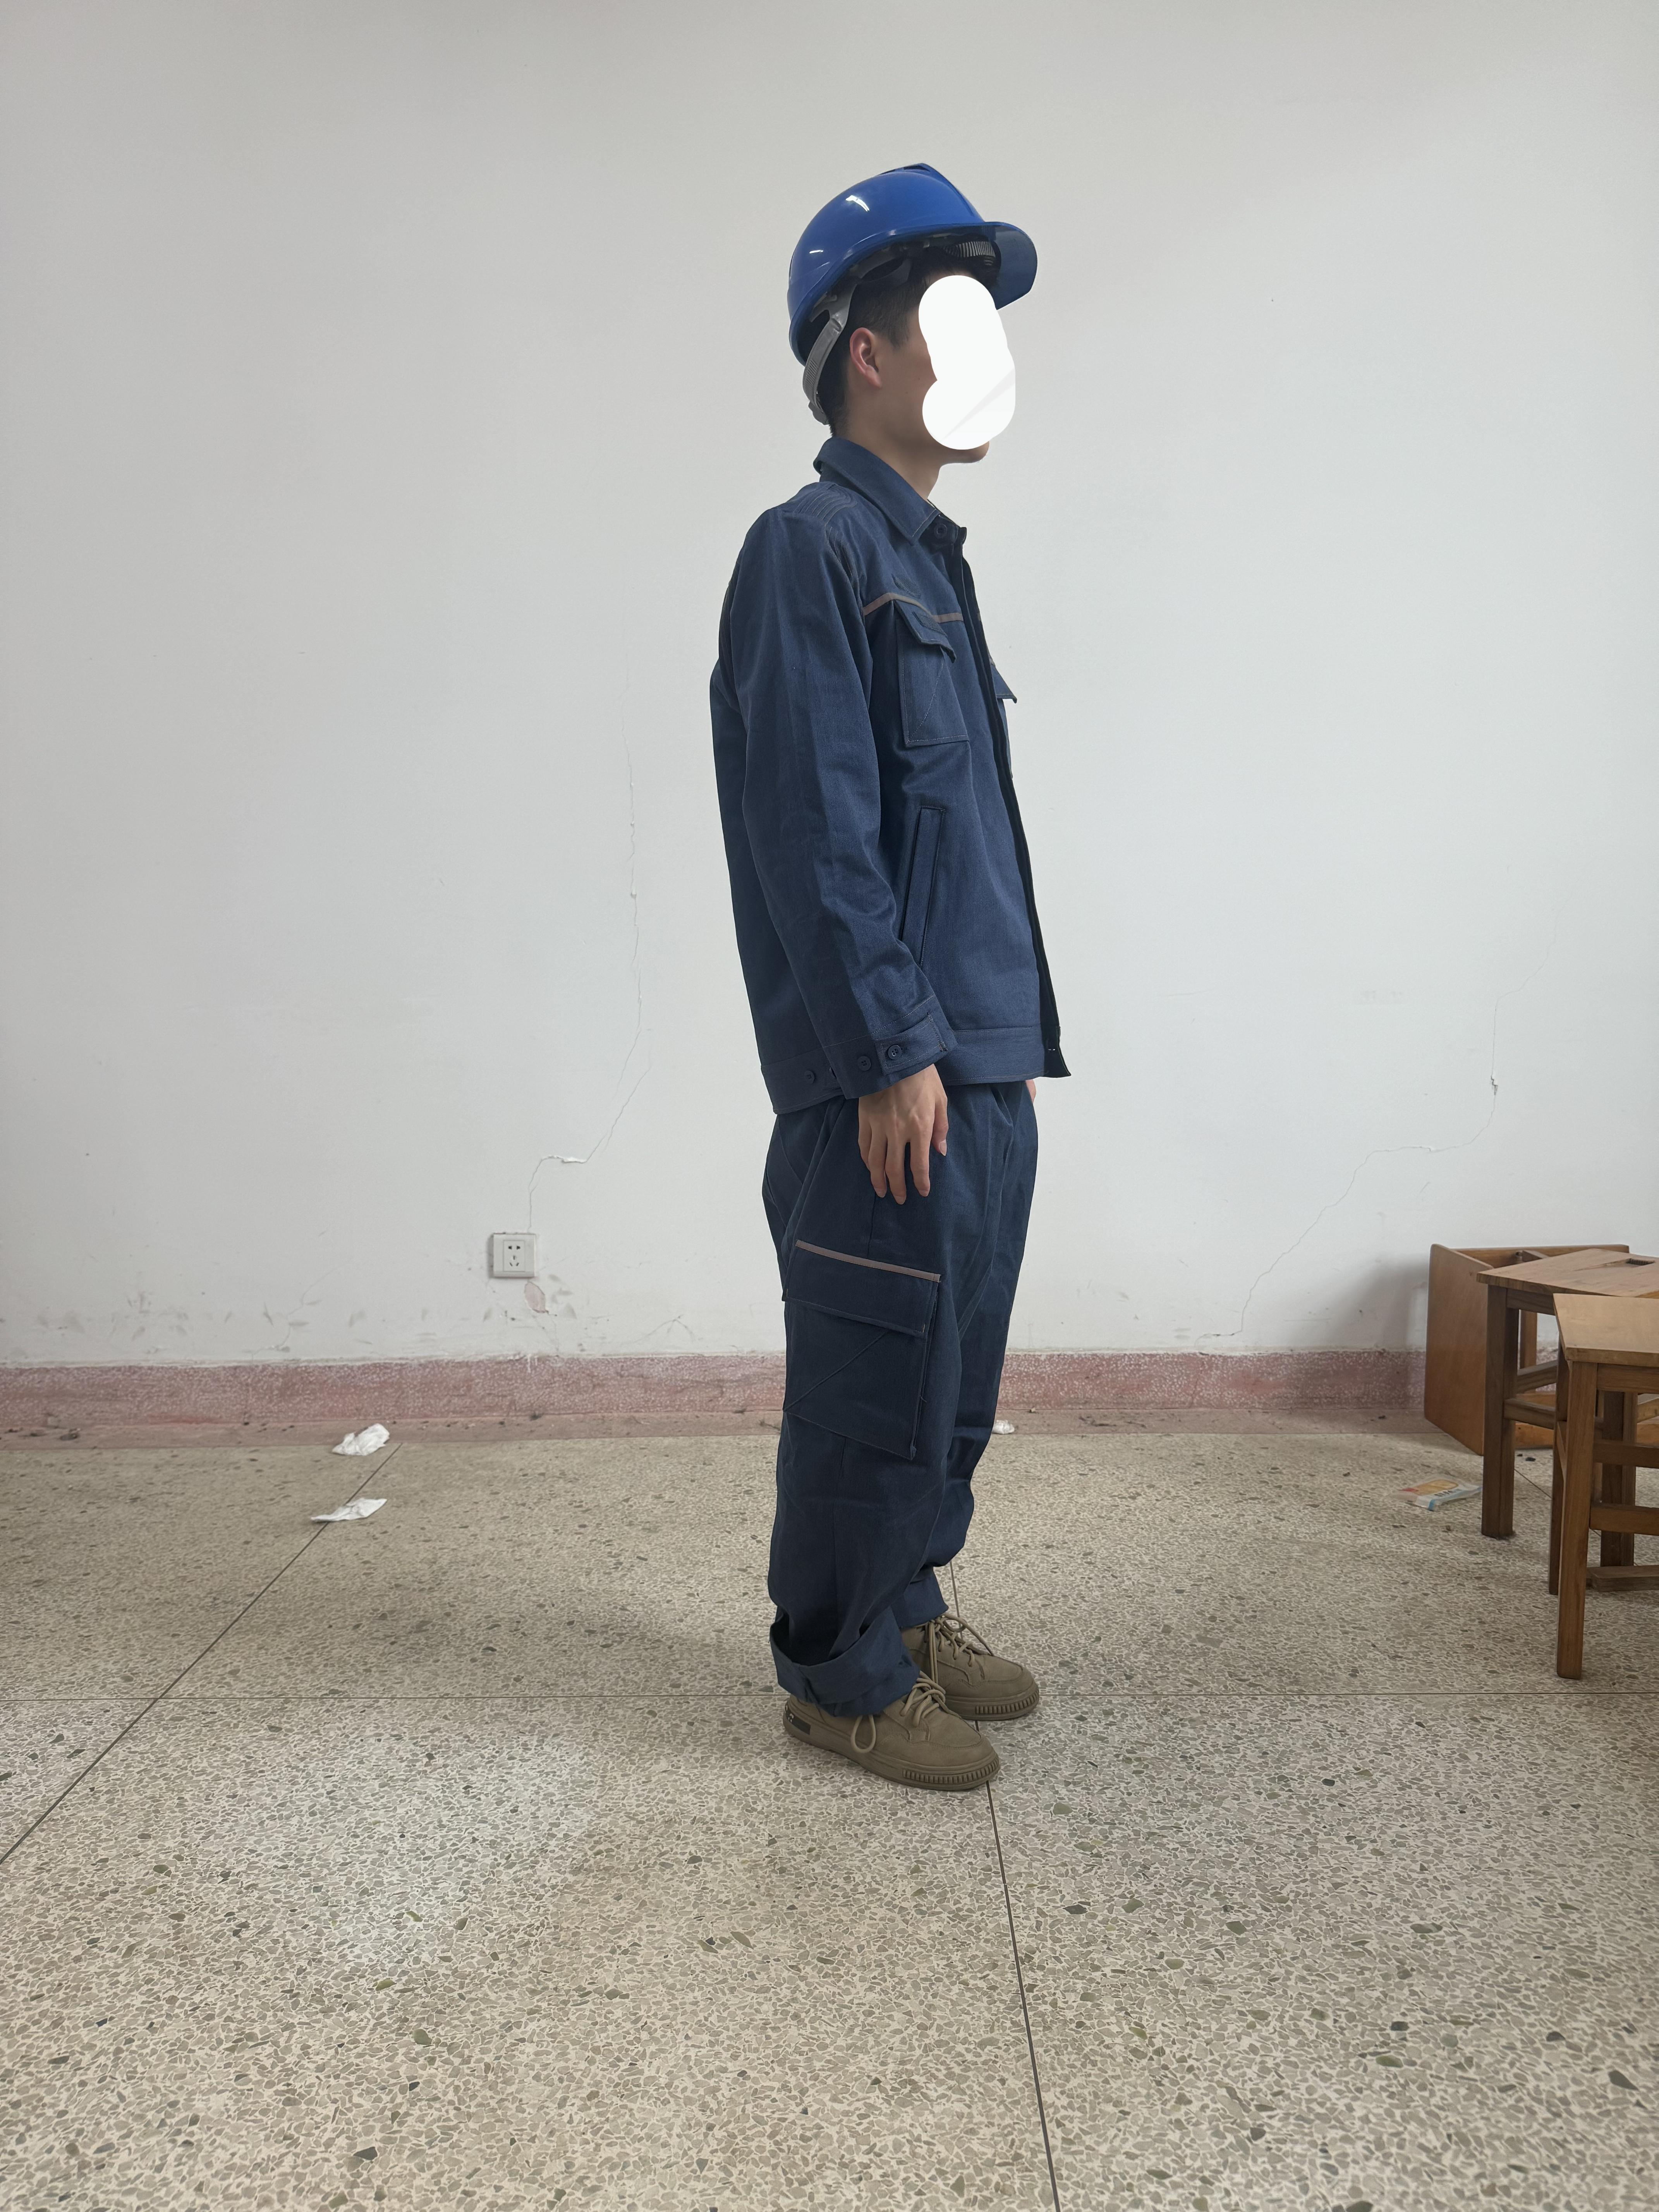halt: (775, 160, 1047, 475)
noear: (829, 286, 924, 428)
